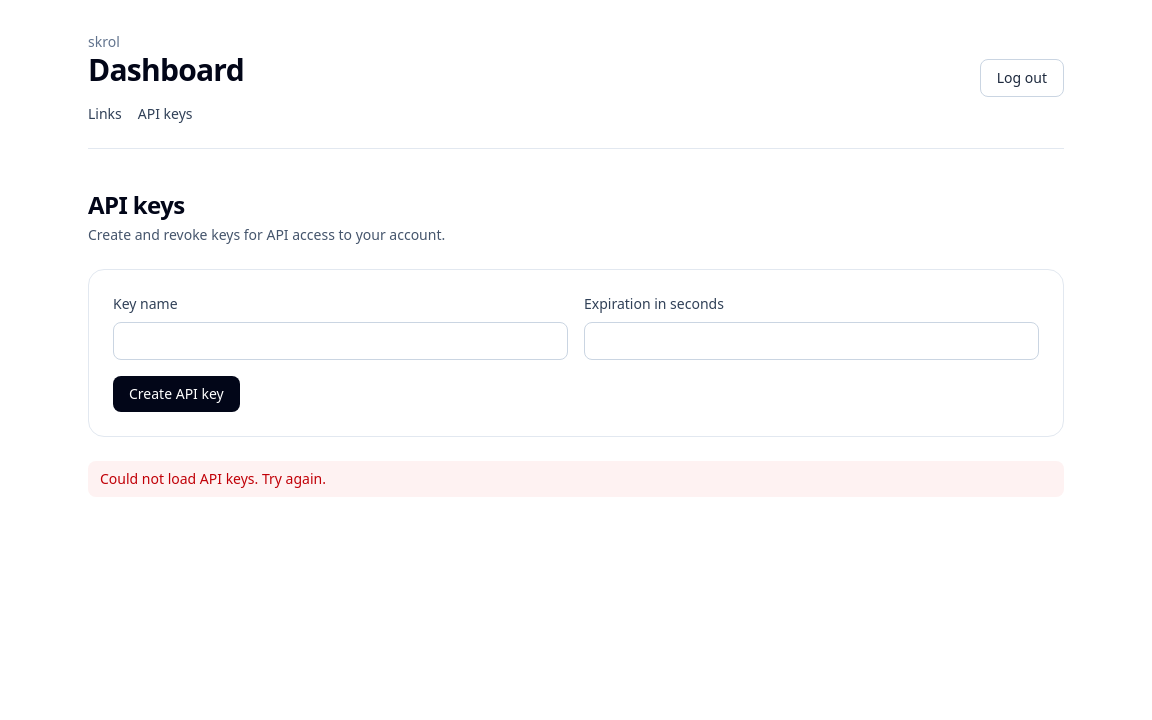
Test case: dashboard api keys page › shows created key metadata after initial list load fails
Check: the message shows "Could not load", box [100,469,326,488]
Type "CLI" into the field labelled "Key name".
click(340, 341); type("CLI")  # box [113,322,568,360]
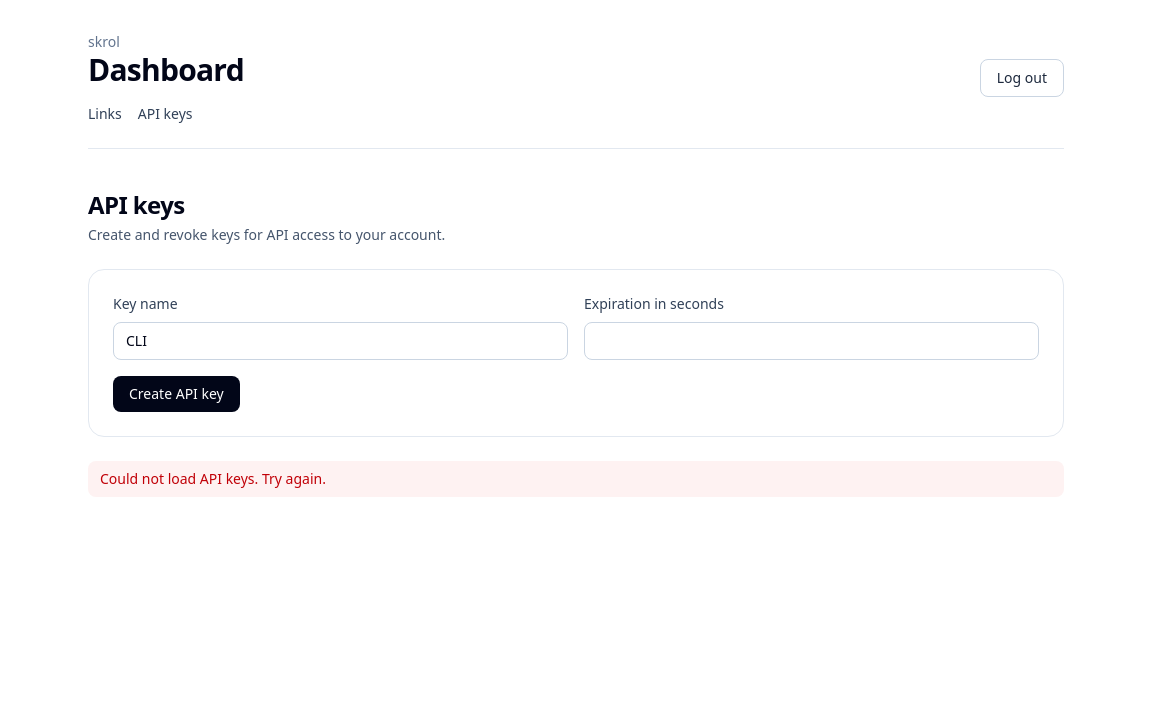
Click the button "Create API key".
click(176, 394)  # box [113,376,240,412]
(page scrolled)
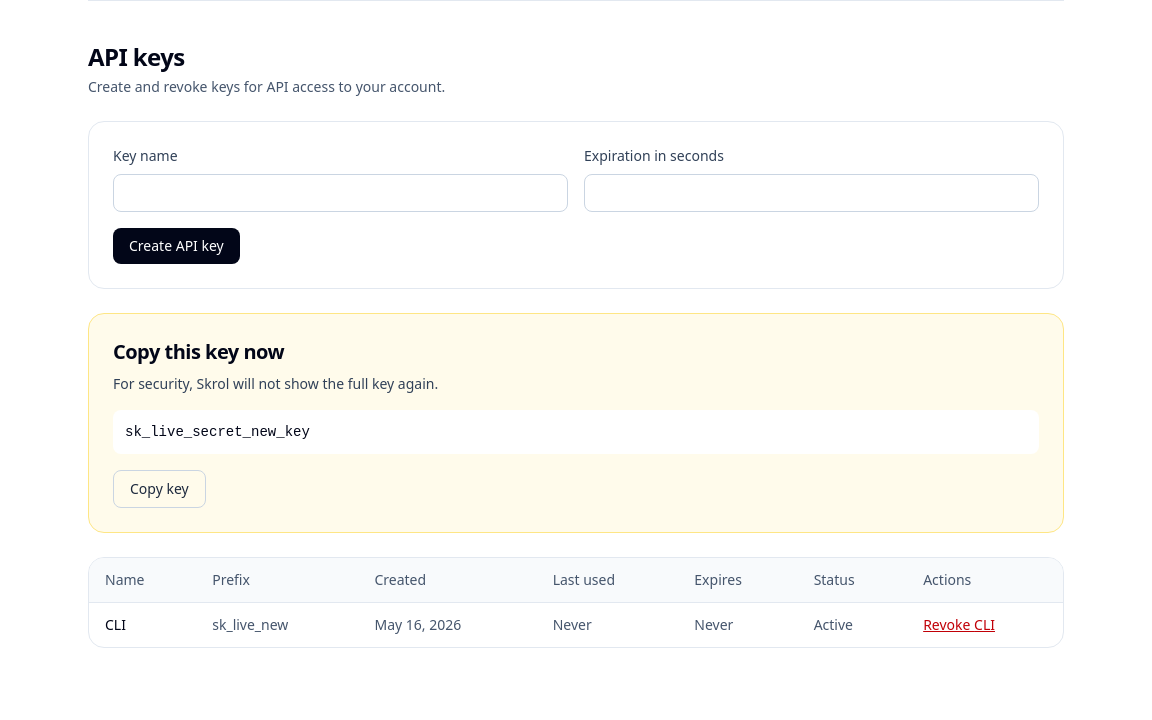
Check: the heading "Copy this key now" is shown, box [113,338,284,365]
Check: the text "CLI" is shown, box [89,602,196,647]
Check: the text "Could not load" is gone
